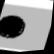correct: (0, 9, 31, 44)
